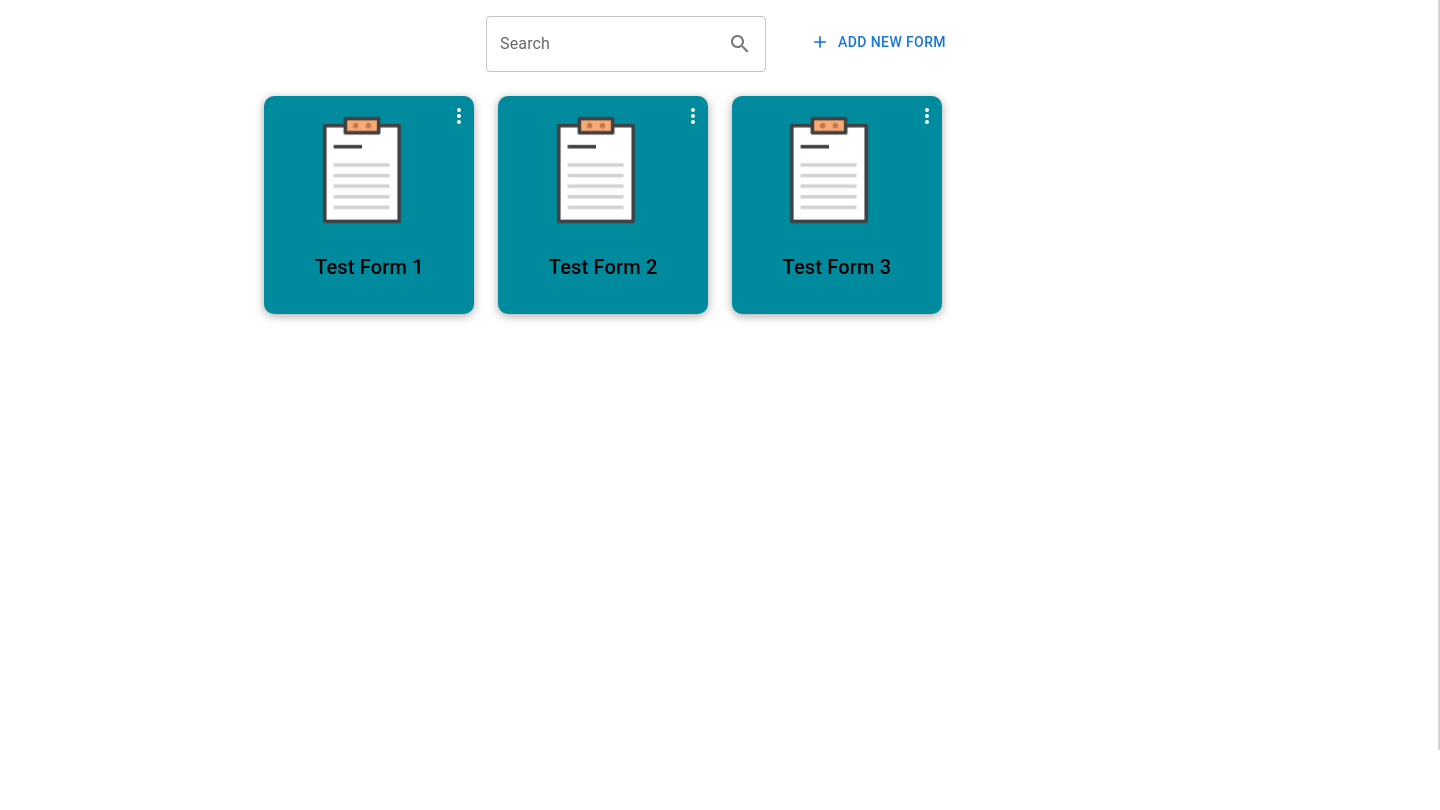
Test case: Formslist component › after clicking 'delete' menu option, a confirmation dialog box pops up and form will be deleted upon clicking delete button
Click the button named "more1".
click(459, 116)  # box [439,96,479,136]
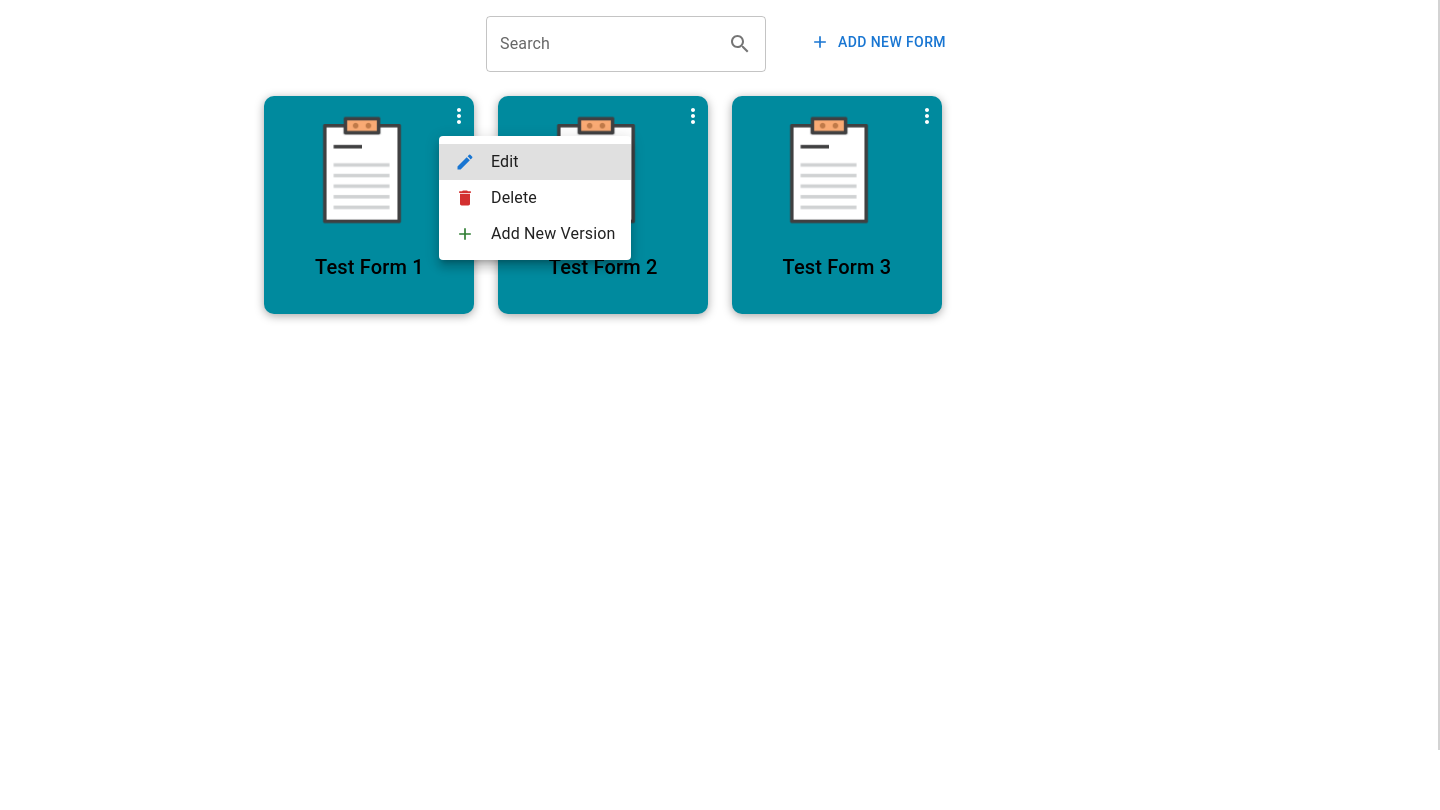
Click the menu item with test id "Delete".
click(496, 198)  # box [455,188,537,208]
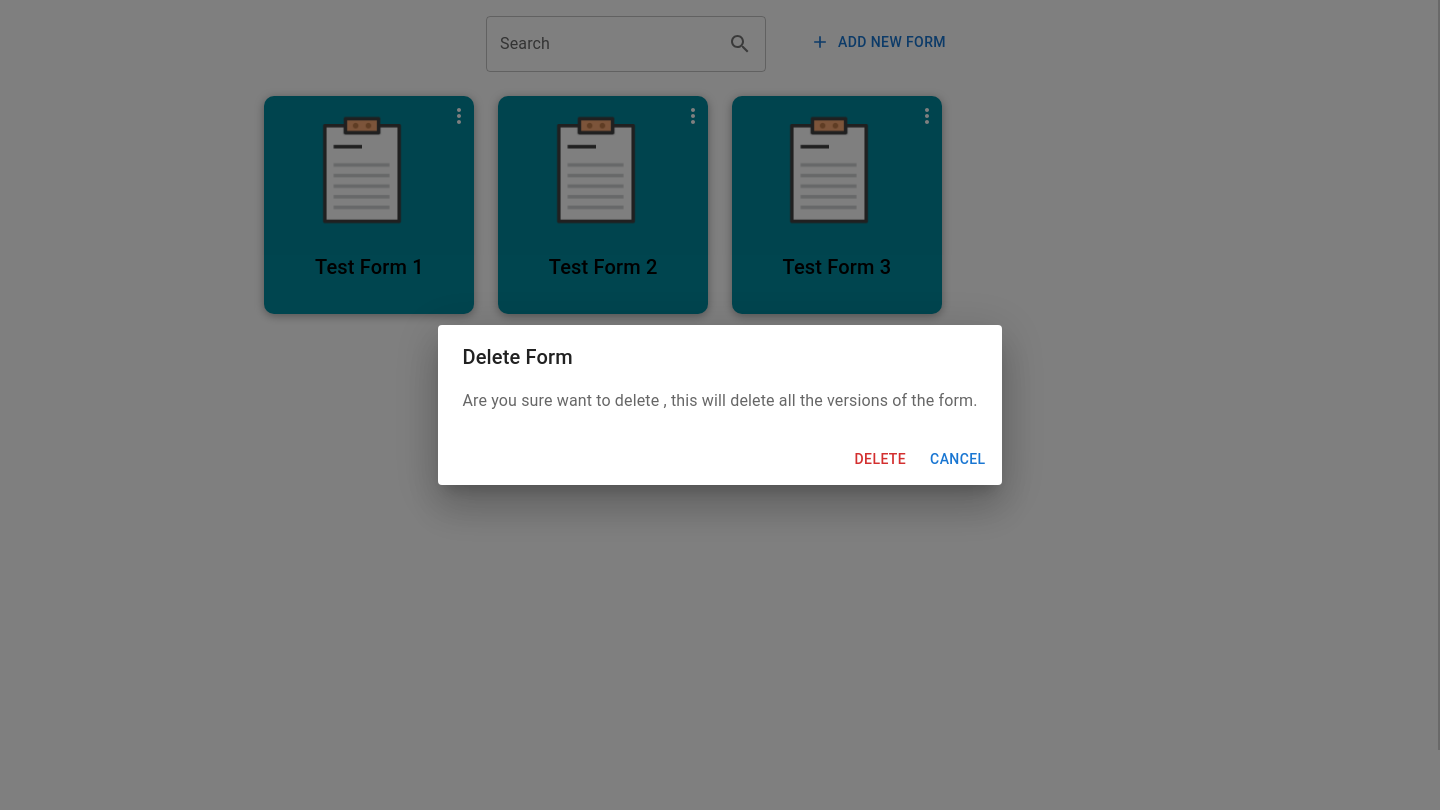
Expected: the heading "Delete Form" is shown, [462,345,573,369]
Click the button "Delete".
click(880, 459)  # box [847,441,914,477]
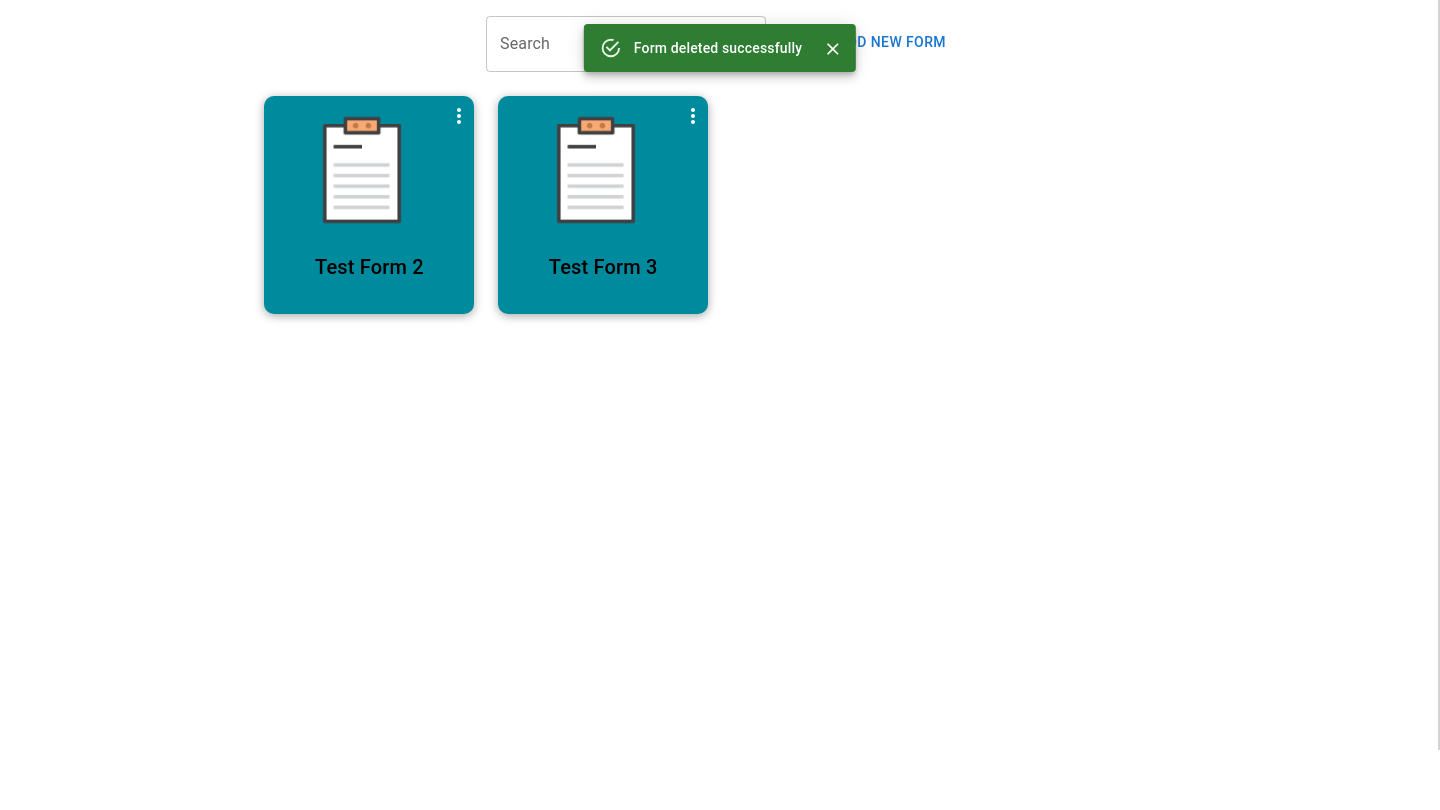
Expected: the text "Form deleted successfully" is shown, [634,40,802,56]
Expected: the element with test id "form1" is gone
